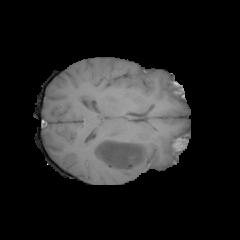glioma: (92, 70, 157, 171)
